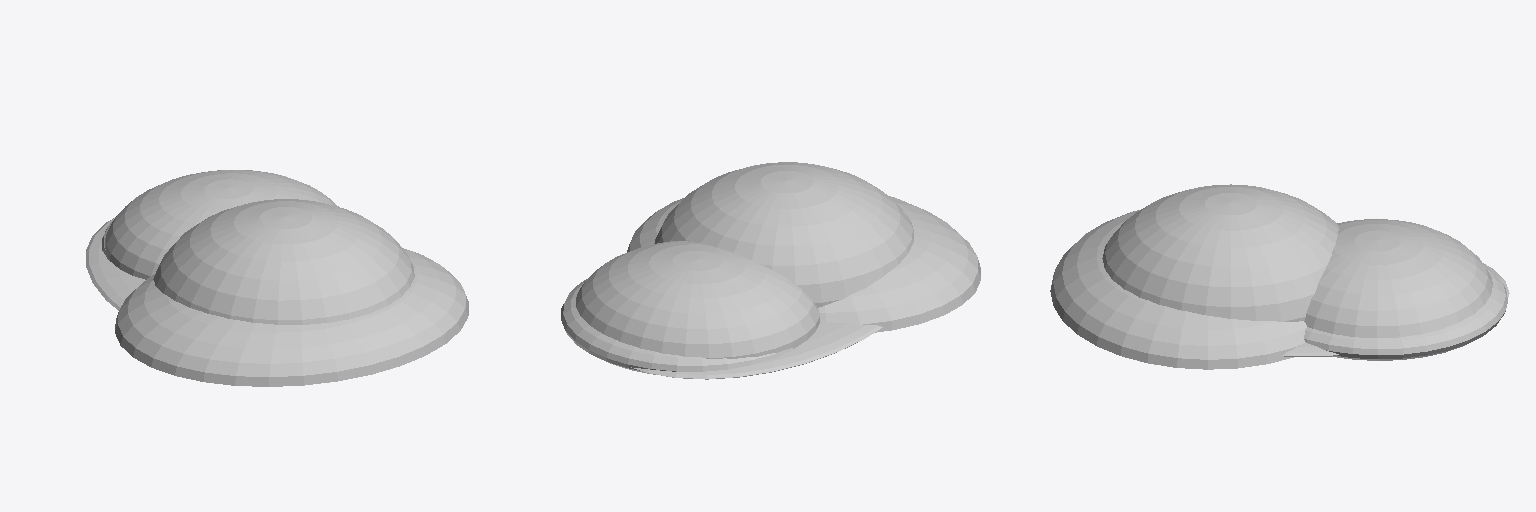
Rendered from coins.obj.
The picture shows the model from 3 angles: view 1: azimuth 30°, elevation 25°; view 2: azimuth 150°, elevation 25°; view 3: azimuth 270°, elevation 25°; orthographic projection.
Visible parts, largest first — view 1: Sphere.001, Sphere.004, Sphere, Sphere.003; view 2: Sphere.001, Sphere, Sphere.004, Sphere.002, Sphere.003; view 3: Sphere.001, Sphere, Sphere.004, Sphere.002, Sphere.003.
Boxes of the visible parts, x1=… form: Sphere.001: x1=153, y1=199, x2=414, y2=324; Sphere.004: x1=115, y1=248, x2=468, y2=386; Sphere: x1=105, y1=170, x2=338, y2=279; Sphere.003: x1=86, y1=217, x2=145, y2=310; Sphere.001: x1=654, y1=162, x2=913, y2=307; Sphere: x1=576, y1=241, x2=819, y2=358; Sphere.004: x1=627, y1=196, x2=980, y2=332; Sphere.002: x1=561, y1=279, x2=792, y2=374; Sphere.003: x1=631, y1=322, x2=882, y2=379; Sphere.001: x1=1102, y1=184, x2=1338, y2=321; Sphere: x1=1304, y1=219, x2=1492, y2=337; Sphere.004: x1=1050, y1=210, x2=1306, y2=369; Sphere.002: x1=1304, y1=264, x2=1507, y2=360; Sphere.003: x1=1283, y1=263, x2=1509, y2=356.
Bounding box in the file's own units: 1.66 × 0.5582 × 2.07.